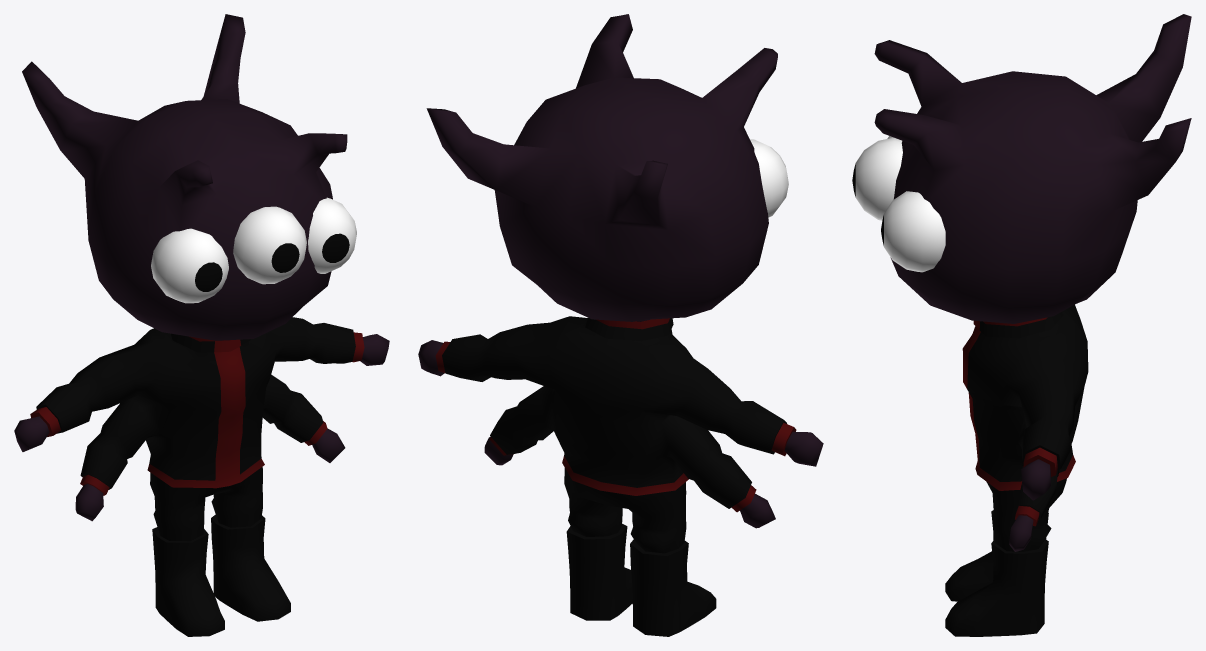
The model's file is Alien Prototype.fbx.
3 views of the same model, side by side, from view 1: azimuth 30°, elevation 25°; view 2: azimuth 150°, elevation 25°; view 3: azimuth 270°, elevation 25° (orthographic). The views are drawn at different scales.
Parts seen in each view (by area): view 1: B_Alien_Head, Alien_Body, Alien_Boots, B_Alien_Eye_Right, B_Alien_Eye_Center, B_Alien_Eye_Left; view 2: B_Alien_Head, Alien_Body, Alien_Boots, B_Alien_Eye_Right; view 3: B_Alien_Head, Alien_Body, Alien_Boots, B_Alien_Eye_Left, B_Alien_Eye_Center.
Boxes of the visible parts, box(x1,y1,x2,y2) form: B_Alien_Head: box(22, 14, 347, 340); Alien_Body: box(14, 317, 389, 521); Alien_Boots: box(150, 467, 290, 636); B_Alien_Eye_Right: box(151, 228, 228, 303); B_Alien_Eye_Center: box(233, 206, 306, 284); B_Alien_Eye_Left: box(308, 197, 356, 273); B_Alien_Head: box(426, 14, 777, 321); Alien_Body: box(418, 316, 823, 528); Alien_Boots: box(564, 468, 716, 636); B_Alien_Eye_Right: box(750, 139, 788, 217); B_Alien_Head: box(874, 14, 1191, 323); Alien_Body: box(962, 304, 1088, 551); Alien_Boots: box(945, 478, 1066, 636); B_Alien_Eye_Left: box(881, 191, 945, 272); B_Alien_Eye_Center: box(852, 137, 902, 220).
Bounding box in the file's own units: 159 × 206 × 117.
